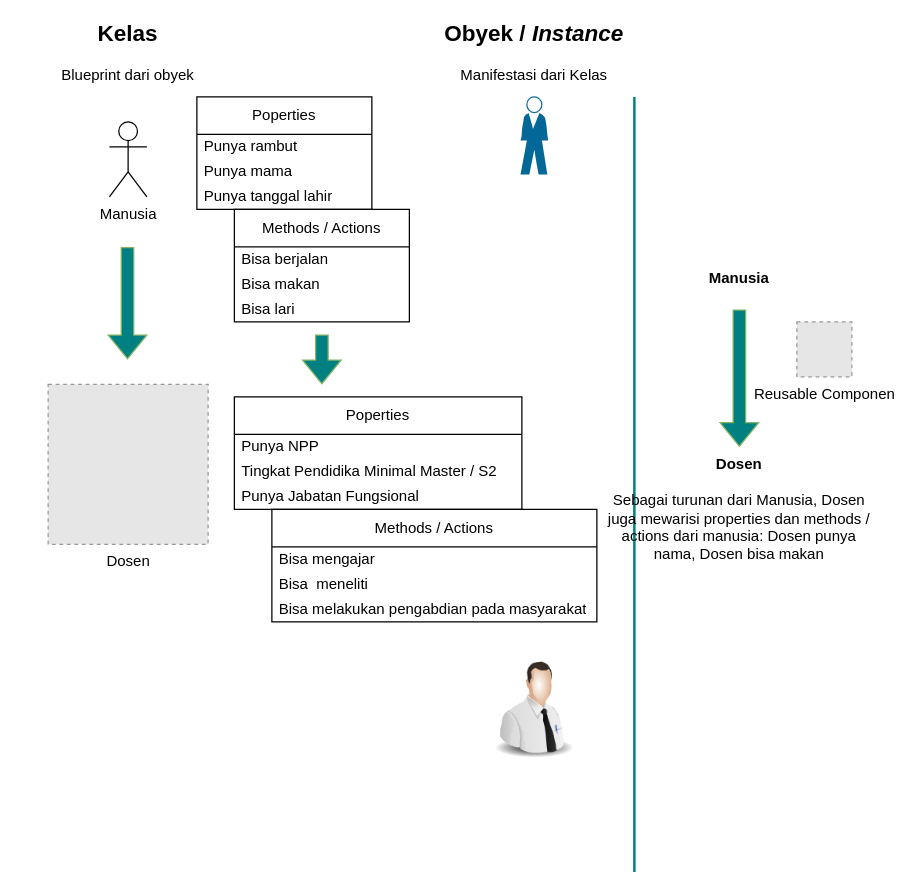
Some shapes in this 916 by 896 pixel diagram are drawn without their labels. Grey dashed boxes stand in for pictures. The shapes that lost their labels are listed below. From the top down, each one's box as (x1, y1, x2, y2) in pixels, then its label:
(519, 95, 549, 175): Rambut: hitam Nama: Bambang Tanggal lahir: 1 Januari 1999 Bisa makan Bisa lari
(484, 659, 584, 759): NPP: 12345 ... ... Bisa mengajar ... ...
